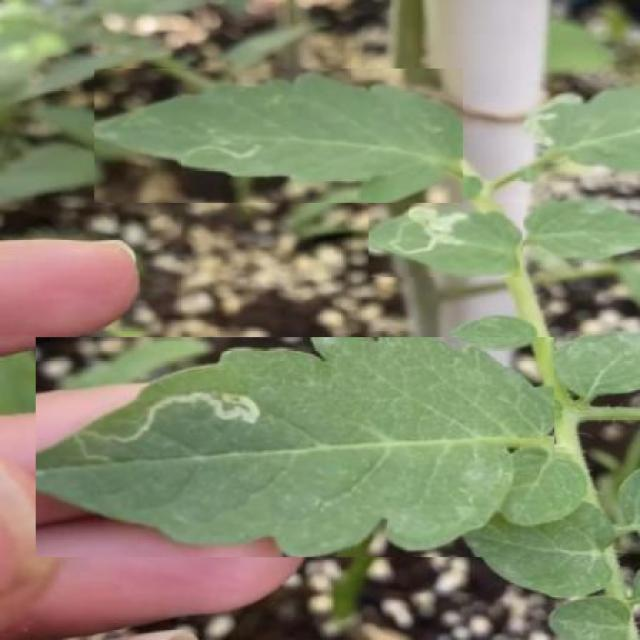Leaf Miner: (36, 337, 554, 557), (95, 69, 464, 202), (369, 203, 524, 277)
